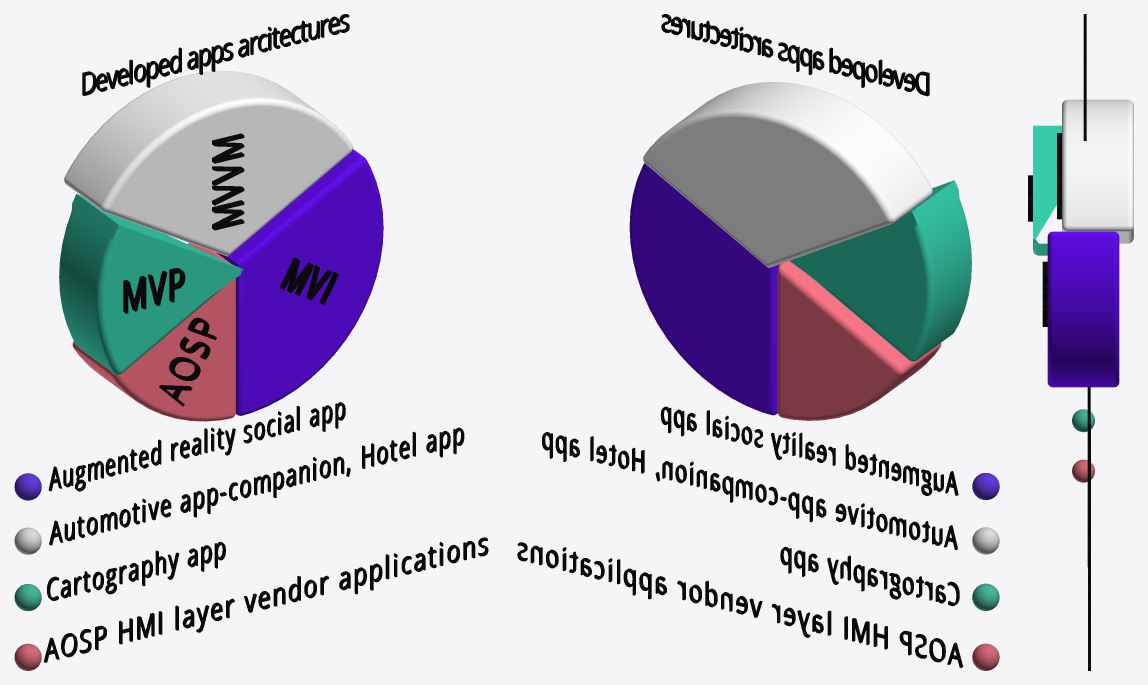
Rendered from AppsArch.glb.
3 renders of one model, left to right at view 1: azimuth 30°, elevation 25°; view 2: azimuth 150°, elevation 25°; view 3: azimuth 270°, elevation 25°, orthographic. The views are drawn at different scales.
Parts seen in each view (by area): view 1: Cylinder 3 & Cylinder 2, Cylinder 3 & Cylinder 20, Cylinder 3 & Cylinder 6 & Box, Cylinder 3 & Cylinder 6 & Box0, 3D Text 1 - M; view 2: Cylinder 3 & Cylinder 2, Cylinder 3 & Cylinder 20, Cylinder 3 & Cylinder 6 & Box, Cylinder 3 & Cylinder 6 & Box0; view 3: Cylinder 3 & Cylinder 20, Cylinder 3 & Cylinder 2, Cylinder 3 & Cylinder 6 & Box, Sphere 2, Sphere 3.
Part boxes in pixels (x1=…): Cylinder 3 & Cylinder 2: x1=64, y1=70, x2=352, y2=256; Cylinder 3 & Cylinder 20: x1=216, y1=149, x2=383, y2=415; Cylinder 3 & Cylinder 6 & Box: x1=59, y1=194, x2=243, y2=374; Cylinder 3 & Cylinder 6 & Box0: x1=72, y1=243, x2=235, y2=421; 3D Text 1 - M: x1=279, y1=257, x2=314, y2=295; Cylinder 3 & Cylinder 2: x1=643, y1=82, x2=932, y2=267; Cylinder 3 & Cylinder 20: x1=629, y1=163, x2=779, y2=415; Cylinder 3 & Cylinder 6 & Box: x1=789, y1=180, x2=971, y2=361; Cylinder 3 & Cylinder 6 & Box0: x1=777, y1=261, x2=941, y2=420; Cylinder 3 & Cylinder 20: x1=1047, y1=231, x2=1119, y2=387; Cylinder 3 & Cylinder 2: x1=1062, y1=99, x2=1133, y2=243; Cylinder 3 & Cylinder 6 & Box: x1=1033, y1=125, x2=1061, y2=255; Sphere 2: x1=1072, y1=409, x2=1094, y2=432; Sphere 3: x1=1072, y1=459, x2=1094, y2=482.
Size of the model in its own units: 0.1607 by 0.191 by 0.0367.
